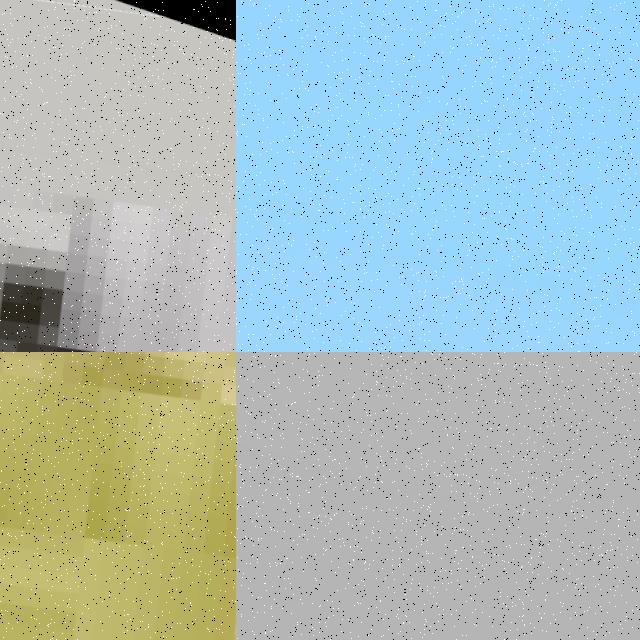drone: (0, 0, 236, 352), (0, 352, 236, 640)
